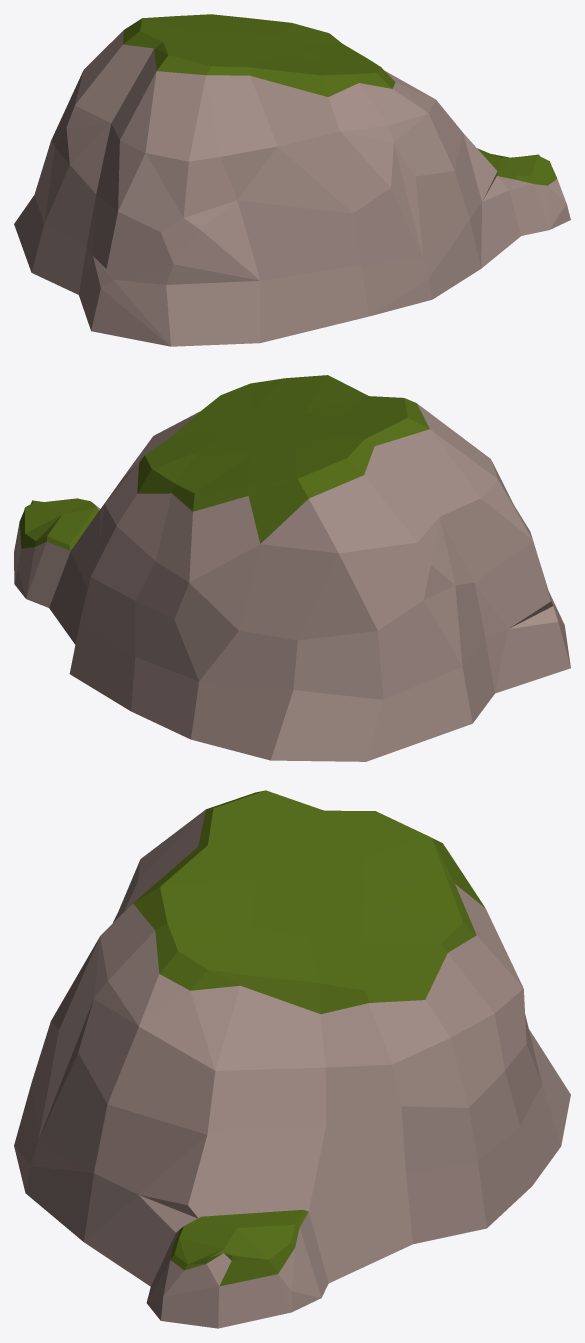
Rendered from Rock_2.fbx.
3 renders of one model, top to bottom at view 1: azimuth 30°, elevation 25°; view 2: azimuth 150°, elevation 25°; view 3: azimuth 270°, elevation 25°, orthographic. The views are drawn at different scales.
Visible parts, largest first — view 1: Rock_2; view 2: Rock_2; view 3: Rock_2.
Part boxes in pixels (x1,y1,x2,y2): Rock_2: (14,14,570,346); Rock_2: (14,375,570,761); Rock_2: (14,790,570,1328).
Size of the model in its own units: 11.19 by 5.04 by 8.42.
